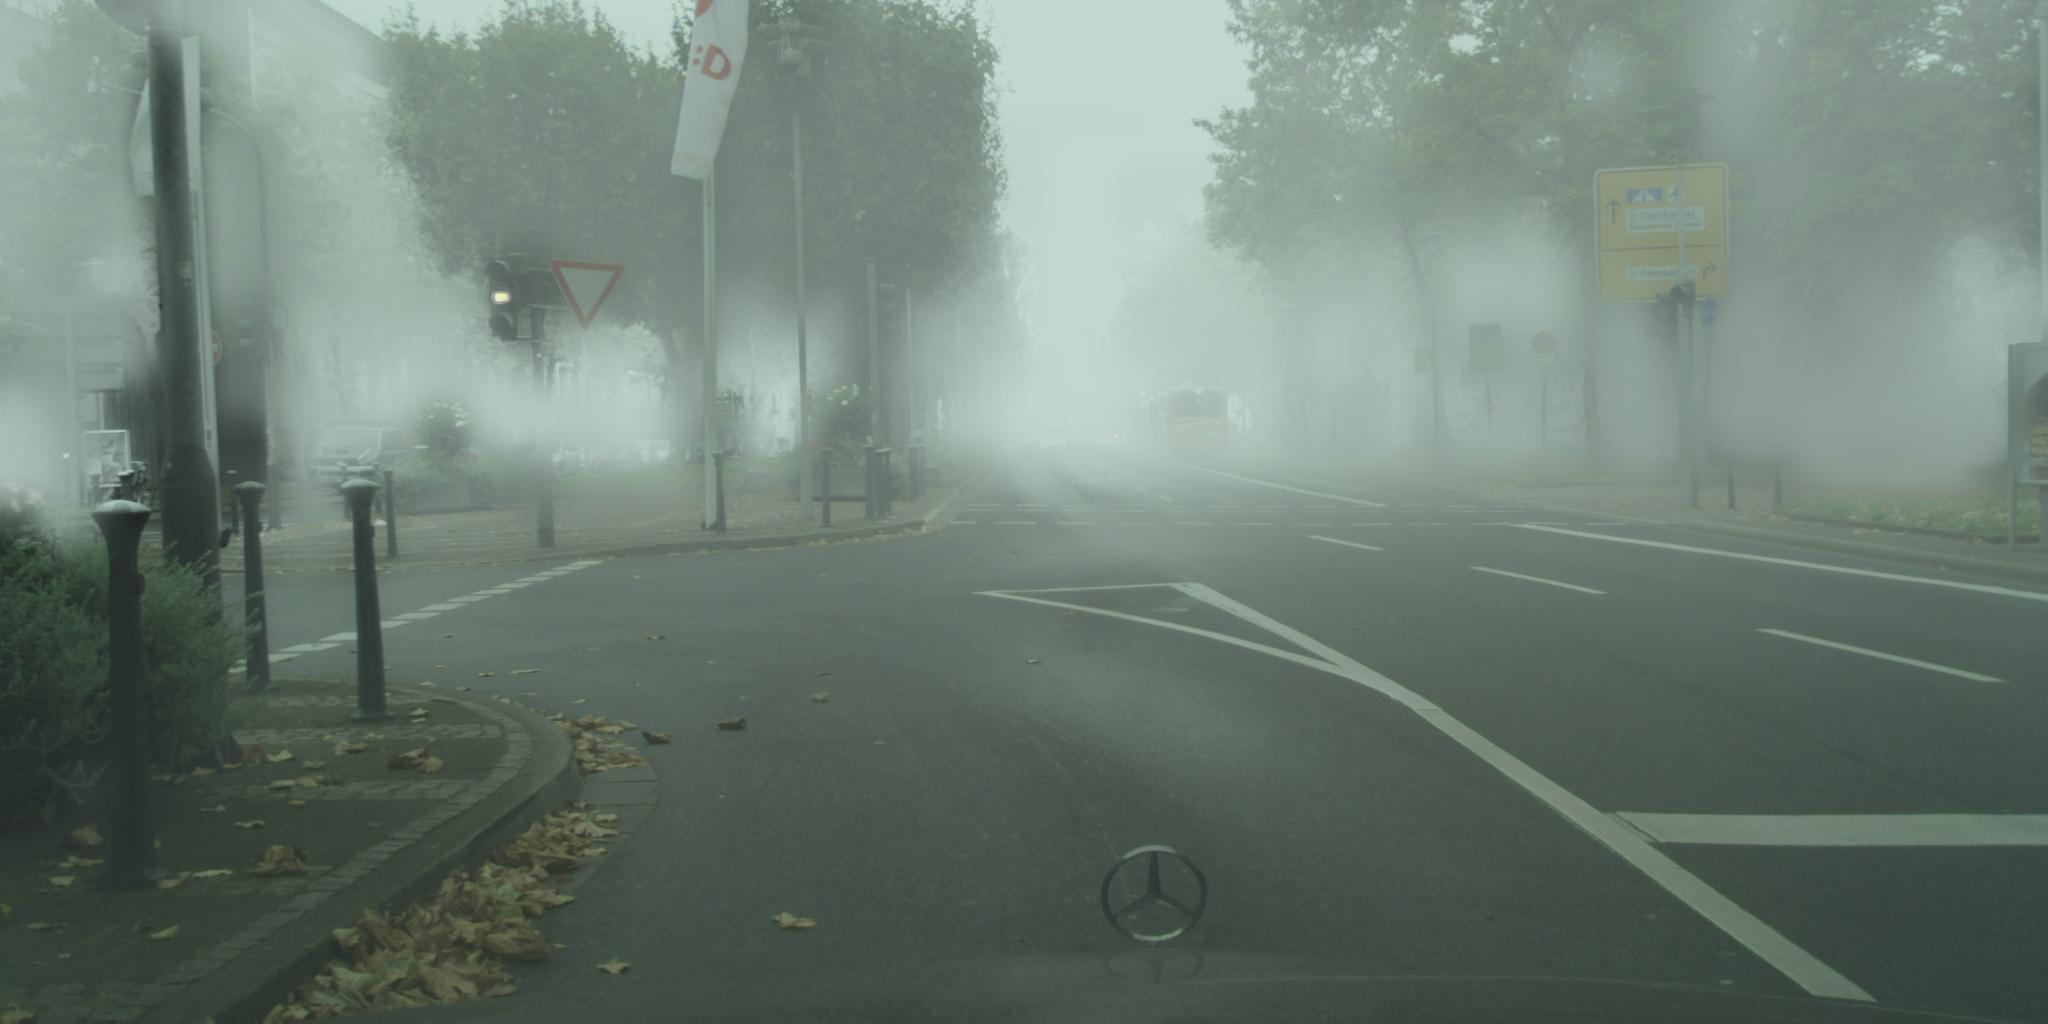bicycle: (107, 461, 159, 509)
bus: (1149, 387, 1228, 462), (1135, 397, 1162, 455)
car: (308, 419, 410, 495), (488, 441, 554, 482), (449, 441, 512, 472), (543, 438, 584, 481), (603, 440, 647, 472), (566, 441, 602, 475), (588, 441, 616, 475), (647, 441, 680, 469), (630, 440, 660, 470), (404, 441, 444, 461), (1038, 427, 1068, 451)
